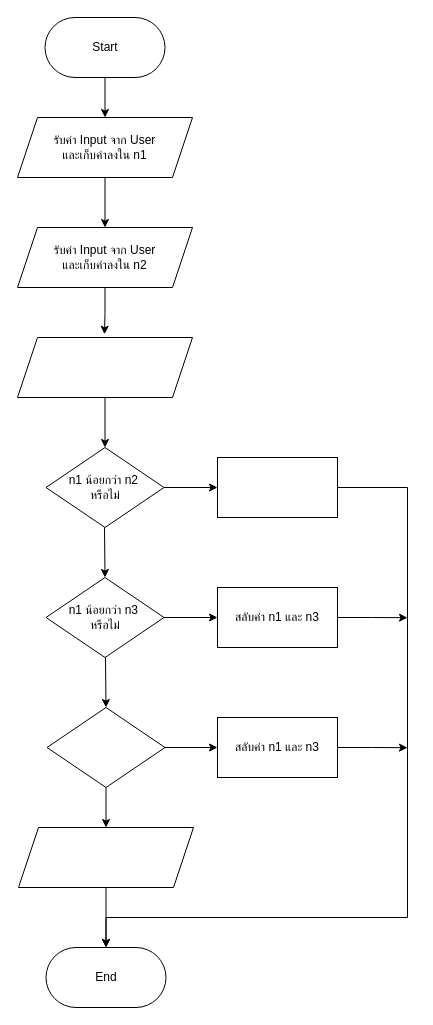
Some shapes in this 433 by 1025 pixel diagram are drawn without their labels. Each missing label, with the box of its shape:
n2 น้อยกว่า n3 หรือไม่: (46, 706, 165, 788)
รับค่า Input จาก User และเก็บค่าลงใน n3: (16, 336, 192, 398)
สลับค่า n1 และ n2: (216, 456, 338, 518)
แสดงค่าจากตัวแปร n1,n2 และ n3: (18, 826, 194, 888)
